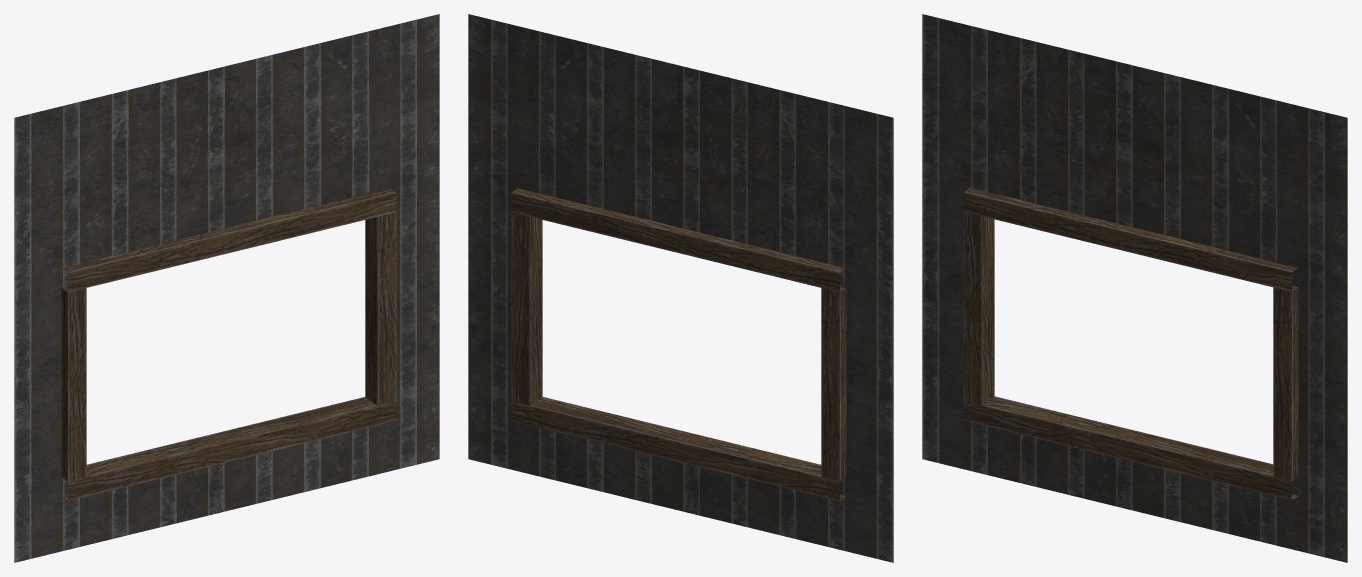
The model's file is long_window.fbx.
3 renders of one model, left to right at view 1: azimuth 30°, elevation 25°; view 2: azimuth 150°, elevation 25°; view 3: azimuth 330°, elevation 25°, orthographic.
Visible parts, largest first — view 1: long_window; view 2: long_window; view 3: long_window.
Boxes of the visible parts, left/top/right/bottom form: long_window: left=14, top=14, right=439, bottom=562; long_window: left=468, top=14, right=893, bottom=562; long_window: left=922, top=14, right=1347, bottom=562.
Size of the model in its own units: 400 by 400 by 20.34.
